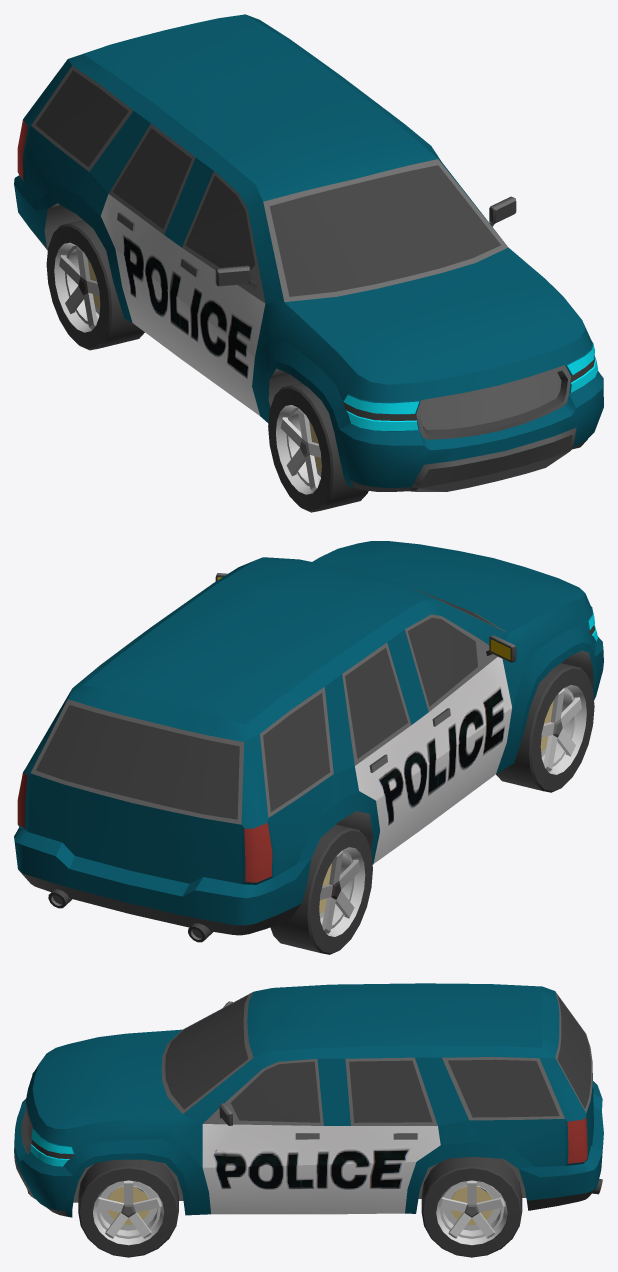
Rendered from Police4x4.fbx.
3 views of the same model, one above another, from view 1: azimuth 30°, elevation 25°; view 2: azimuth 150°, elevation 25°; view 3: azimuth 270°, elevation 25° (orthographic). The views are drawn at different scales.
Parts seen in each view (by area): view 1: Body, FrontRightWheel, ReaRightWheel; view 2: Body, ReaRightWheel, FrontRightWheel; view 3: Body, RearLeftWheel, FrontLeftWheel.
Boxes of the visible parts, left/top/right/bottom form: Body: left=14, top=14, right=603, bottom=491; FrontRightWheel: left=268, top=383, right=368, bottom=512; ReaRightWheel: left=46, top=220, right=144, bottom=350; Body: left=14, top=541, right=603, bottom=942; ReaRightWheel: left=270, top=824, right=372, bottom=954; FrontRightWheel: left=496, top=663, right=594, bottom=792; Body: left=14, top=983, right=603, bottom=1217; RearLeftWheel: left=421, top=1156, right=522, bottom=1257; FrontLeftWheel: left=78, top=1159, right=178, bottom=1257.
Size of the model in its own units: 208 by 170 by 459.
